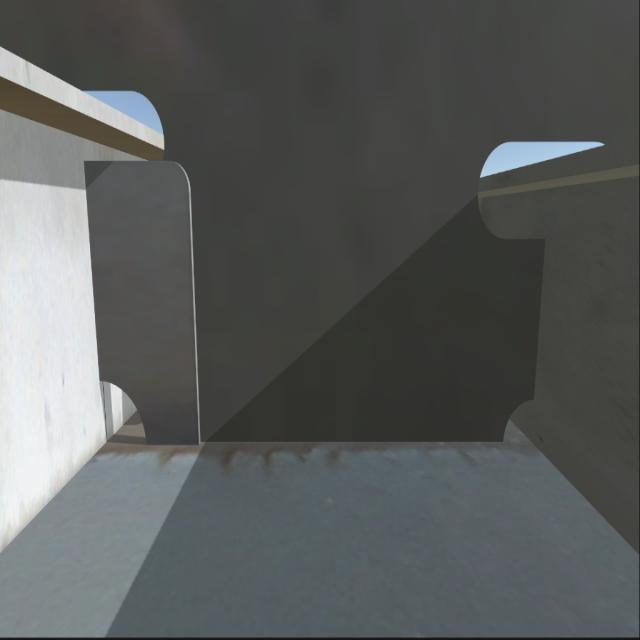fillet_hole: (98, 378, 148, 443)
fillet_yong_jeop_jang: (149, 437, 498, 451)
longi_yong_jeop_jang: (531, 239, 548, 393), (87, 165, 98, 381), (501, 395, 534, 444)
plate_CP05: (99, 163, 198, 445)
